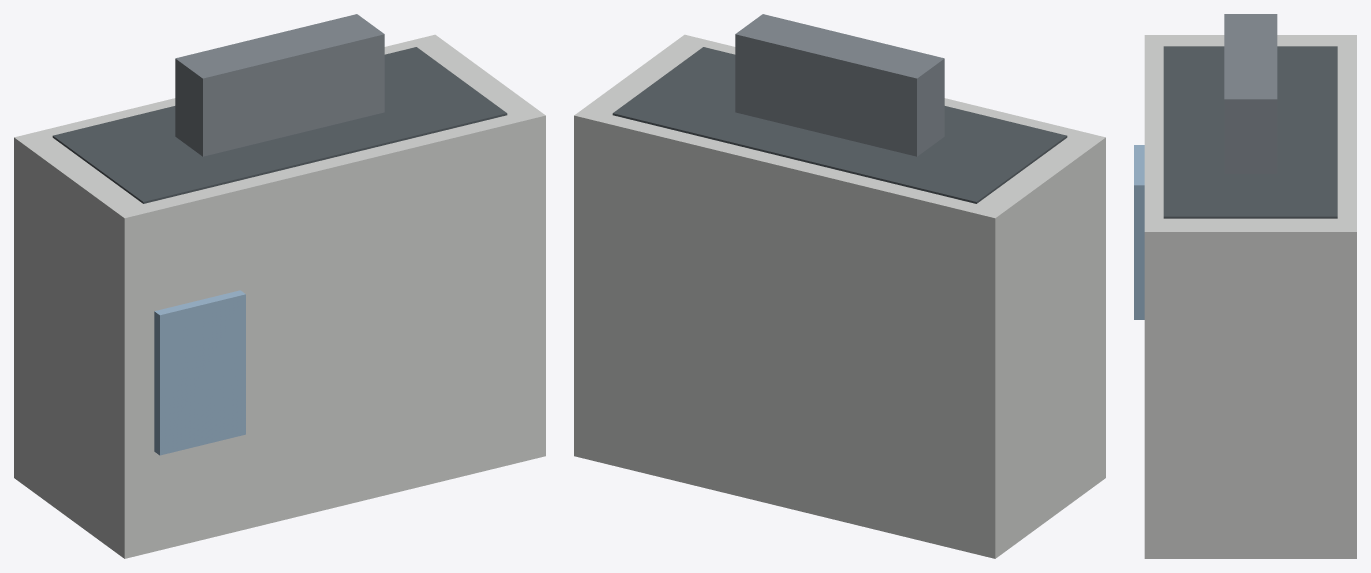
The model's file is waste-toner.glb.
3 views of the same model, side by side, from view 1: azimuth 30°, elevation 25°; view 2: azimuth 150°, elevation 25°; view 3: azimuth 270°, elevation 25° (orthographic). The views are drawn at different scales.
Parts seen in each view (by area): view 1: Waste Toner Container; view 2: Waste Toner Container; view 3: Waste Toner Container.
Boxes of the visible parts, box(x1,y1,x2,y2) form: Waste Toner Container: box(14, 14, 545, 558); Waste Toner Container: box(574, 14, 1105, 558); Waste Toner Container: box(1134, 14, 1356, 558).
Bounding box in the file's own units: 0.22 × 0.21 × 0.105.
